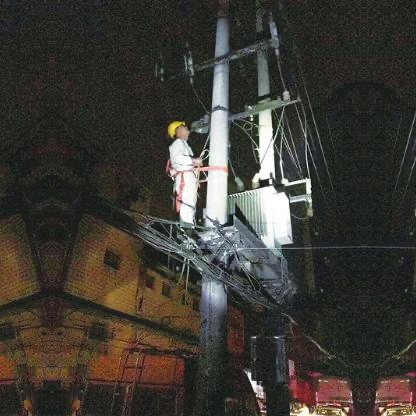Safety Helmet: (162, 116, 195, 150)
